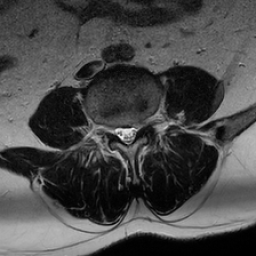CCS_normal: (123, 115, 130, 154)
LFS_normal: (138, 110, 146, 134)
LLS_normal: (130, 116, 138, 148)
RFS_normal: (107, 114, 115, 142)
RLS_normal: (115, 115, 123, 147)
